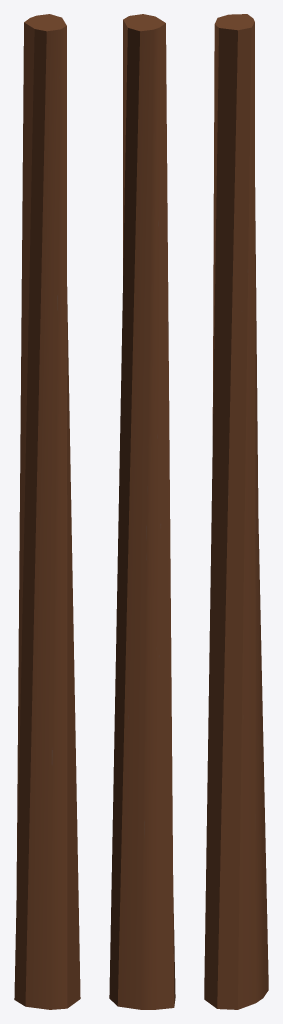
The model's file is Branch.fbx.
3 views of the same model, side by side, from view 1: azimuth 30°, elevation 25°; view 2: azimuth 210°, elevation 25°; view 3: azimuth 270°, elevation 25° (orthographic).
Parts seen in each view (by area): view 1: node_id3; view 2: node_id3; view 3: node_id3.
Part boxes in pixels (x1,y1,x2,y2): node_id3: (14,14,80,1009); node_id3: (109,14,175,1009); node_id3: (204,14,268,1009).
Size of the model in its own units: 0.0288 by 0.512 by 0.0308.
1 material, 1 textured.
